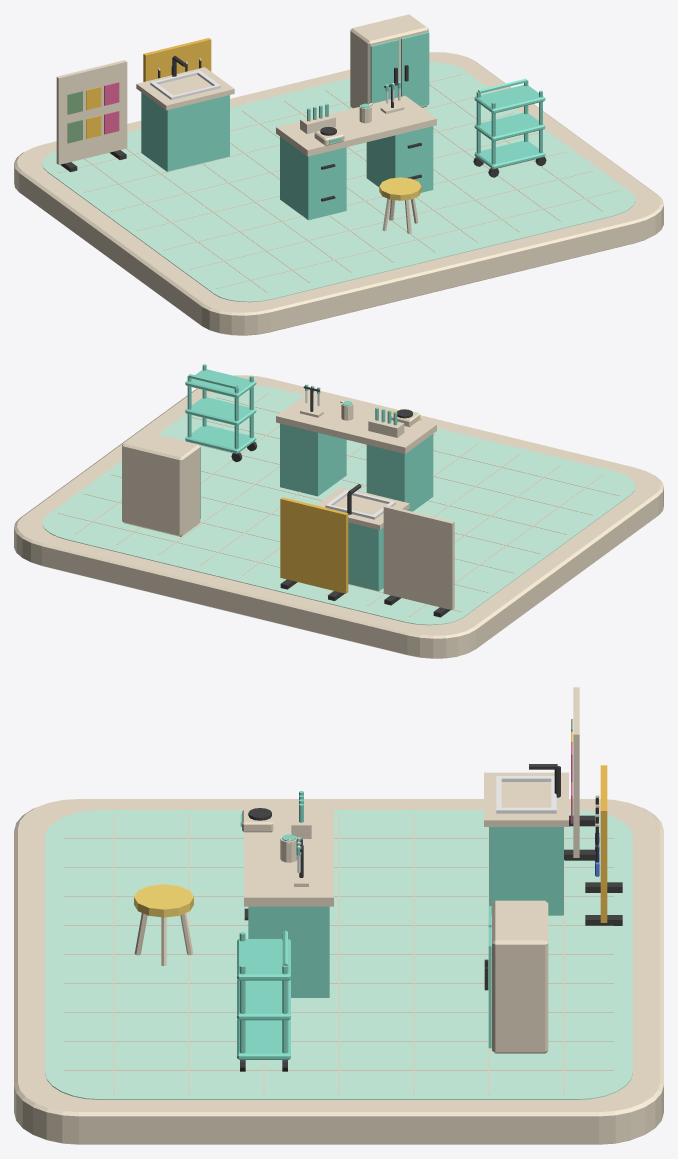
3 renders of one model, top to bottom at view 1: azimuth 30°, elevation 25°; view 2: azimuth 150°, elevation 25°; view 3: azimuth 270°, elevation 25°, orthographic. The views are drawn at different scales.
Visible parts, largest first — view 1: COM-02 Floor Surface, COM-01 Rounded Base Direct, Cabinet, Panel, Storage module, Worktop, Storage module.001, Equipment case, Counter, Door.001, Panel.001, Door (+7 smaller); view 2: COM-02 Floor Surface, COM-01 Rounded Base Direct, Equipment case, Panel, Panel.001, Worktop, Storage module.001, Storage module, Cabinet, Counter, Tray.001, Tray (+2 smaller); view 3: COM-02 Floor Surface, COM-01 Rounded Base Direct, Equipment case, Worktop, Cabinet, Storage module.001, Counter, Tray.002, Tray.001, Tray, Seat, Panel.001 (+7 smaller).
Part boxes in pixels (<box>): COM-02 Floor Surface: <box>42,62,635,302</box>; COM-01 Rounded Base Direct: <box>14,52,663,335</box>; Cabinet: <box>141,92,229,171</box>; Panel: <box>56,60,127,164</box>; Storage module: <box>280,136,346,220</box>; Worktop: <box>276,95,436,156</box>; Storage module.001: <box>366,126,433,192</box>; Equipment case: <box>350,14,428,108</box>; Counter: <box>136,67,234,110</box>; Door.001: <box>401,32,429,106</box>; Panel.001: <box>143,38,211,81</box>; Door: <box>370,39,398,103</box>; COM-02 Floor Surface: <box>42,385,635,625</box>; COM-01 Rounded Base Direct: <box>14,375,663,658</box>; Equipment case: <box>122,430,200,536</box>; Panel: <box>383,505,454,609</box>; Panel.001: <box>280,497,348,593</box>; Worktop: <box>276,393,436,453</box>; Storage module.001: <box>280,423,346,496</box>; Storage module: <box>366,434,433,511</box>; Cabinet: <box>348,522,383,591</box>; Counter: <box>316,486,409,529</box>; Tray.001: <box>185,397,256,425</box>; Tray: <box>185,425,256,453</box>; COM-02 Floor Surface: <box>45,810,632,1099</box>; COM-01 Rounded Base Direct: <box>14,799,663,1144</box>; Equipment case: <box>492,900,548,1053</box>; Worktop: <box>244,807,333,906</box>; Cabinet: <box>489,827,563,915</box>; Storage module.001: <box>248,906,329,997</box>; Counter: <box>484,772,568,826</box>; Tray.002: <box>237,939,290,980</box>; Tray.001: <box>237,980,290,1020</box>; Tray: <box>237,1019,290,1059</box>; Seat: <box>134,884,193,917</box>; Panel.001: <box>600,765,607,922</box>.
Bounding box in the file's own units: 6 × 1.54 × 5.2.
Materials: 1 (1 with a texture image).
